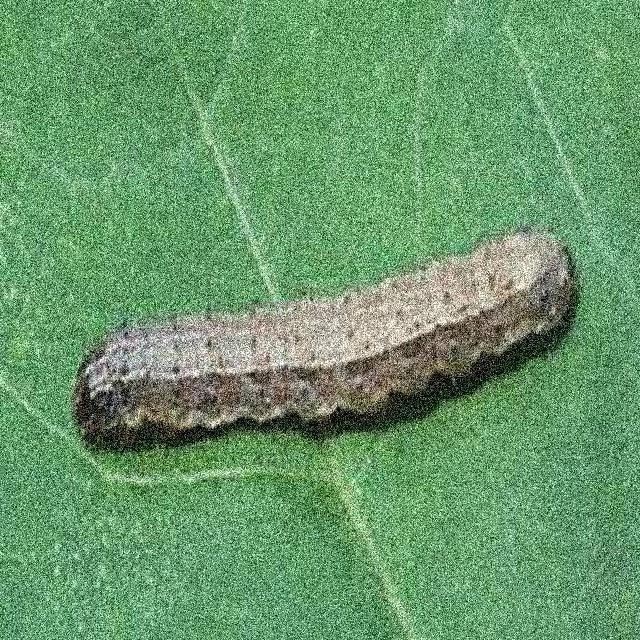gusano_cogollero: (71, 226, 580, 455)
